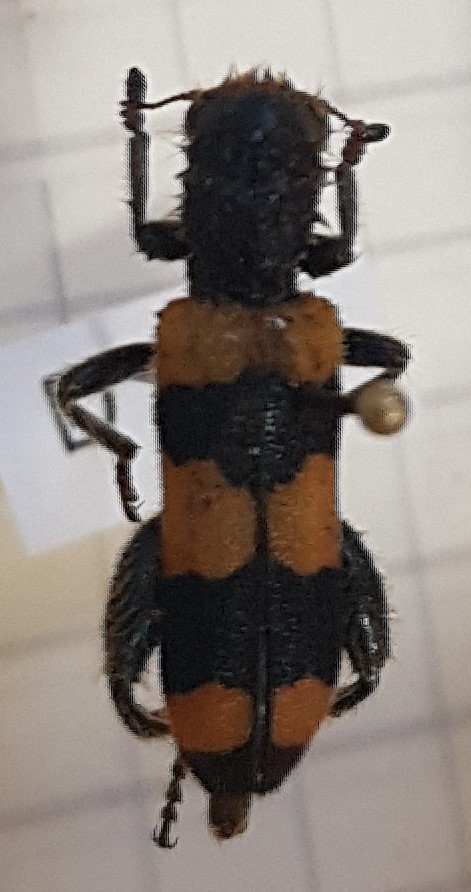trichodes_crabroniformis: (33, 36, 420, 849)
